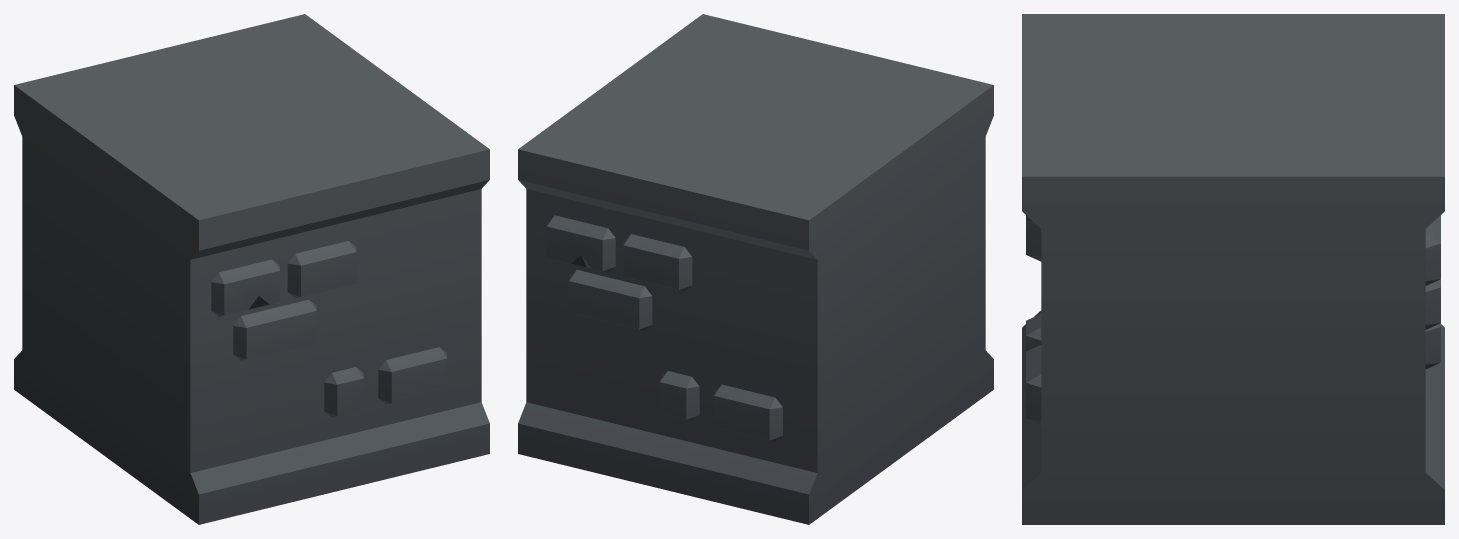
The model's file is floor_foundation_front_and_back.glb.
3 views of the same model, side by side, from view 1: azimuth 30°, elevation 25°; view 2: azimuth 150°, elevation 25°; view 3: azimuth 270°, elevation 25° (orthographic). The views are drawn at different scales.
Parts seen in each view (by area): view 1: floor_foundation_front_and_back; view 2: floor_foundation_front_and_back; view 3: floor_foundation_front_and_back.
Boxes of the visible parts, <box> form: floor_foundation_front_and_back: <box>14,14,489,524</box>; floor_foundation_front_and_back: <box>518,14,993,524</box>; floor_foundation_front_and_back: <box>1022,14,1444,524</box>.
Size of the model in its own units: 2 by 2 by 2.2.
1 material, 1 textured.
